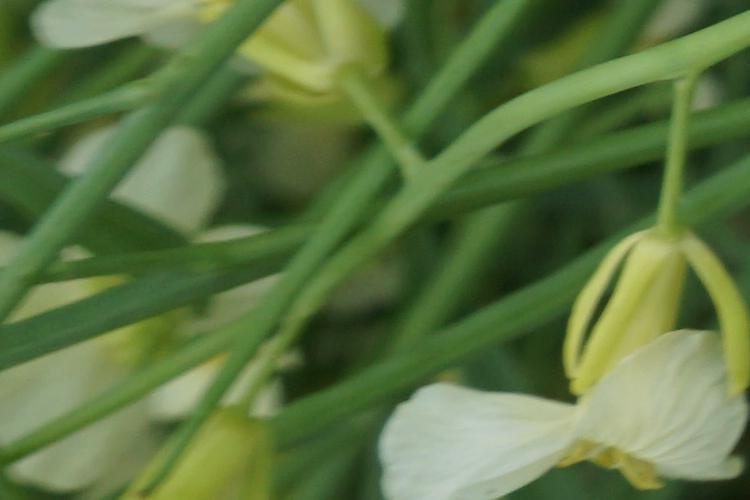white: (359, 243, 750, 497)
